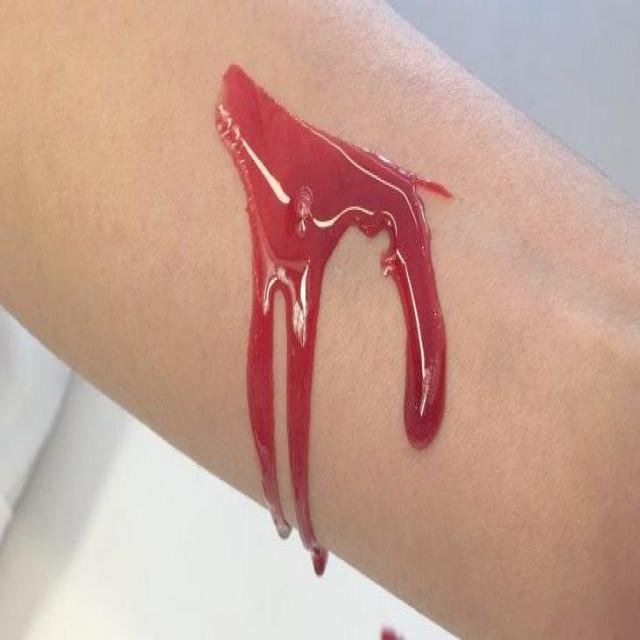Bloodstain-Detection: (232, 87, 343, 279), (391, 248, 449, 428)
